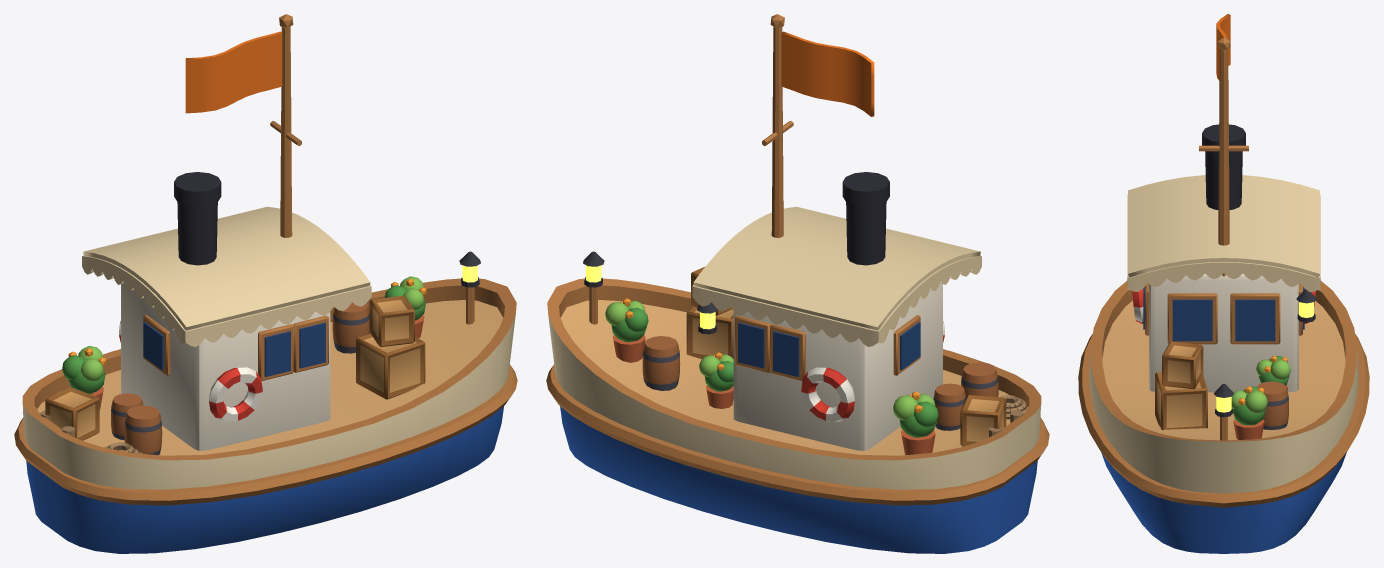
File: acuarela.glb
3 renders of one model, left to right at view 1: azimuth 30°, elevation 25°; view 2: azimuth 150°, elevation 25°; view 3: azimuth 270°, elevation 25°, orthographic. The views are drawn at different scales.
Parts seen in each view (by area): view 1: hull, awning, cabin, rub_rail, crates, flag, valance, windows, barrels, chimney, mast, plants (+2 smaller); view 2: hull, awning, cabin, rub_rail, flag, valance, windows, barrels, plants, crates, chimney, mast (+3 smaller); view 3: hull, awning, cabin, rub_rail, windows, crates, valance, mast, chimney, plants, lanterns, barrels (+3 smaller).
Part boxes in pixels (box(x1,y1,x2,y2)): hull: box(22, 278, 516, 553); awning: box(83, 206, 370, 330); cabin: box(121, 283, 330, 450); rub_rail: box(14, 364, 517, 505); crates: box(45, 295, 425, 440); flag: box(185, 31, 282, 113); valance: box(82, 255, 371, 346); windows: box(143, 315, 328, 380); barrels: box(111, 302, 370, 455); chimney: box(174, 172, 221, 265); mast: box(270, 14, 301, 237); plants: box(62, 276, 426, 393); hull: box(547, 278, 1041, 553); awning: box(693, 206, 980, 330); cabin: box(733, 283, 942, 450); rub_rail: box(546, 364, 1049, 505); flag: box(781, 31, 874, 116); valance: box(692, 255, 981, 346); windows: box(735, 315, 920, 380); barrels: box(642, 336, 998, 430); plants: box(605, 298, 938, 437); crates: box(686, 266, 1006, 446); chimney: box(842, 172, 889, 265); mast: box(762, 14, 793, 237); hull: box(1089, 281, 1358, 553); awning: box(1128, 175, 1319, 277); cabin: box(1149, 274, 1298, 392); rub_rail: box(1078, 333, 1369, 507); windows: box(1143, 283, 1304, 344); crates: box(1155, 341, 1207, 429); valance: box(1127, 194, 1320, 291); mast: box(1199, 37, 1248, 276); chimney: box(1202, 124, 1245, 209); plants: box(1231, 356, 1290, 425); lanterns: box(1213, 289, 1316, 440); barrels: box(1257, 381, 1288, 429).
Bounding box in the file's own units: 2 × 1.89 × 1.16.
